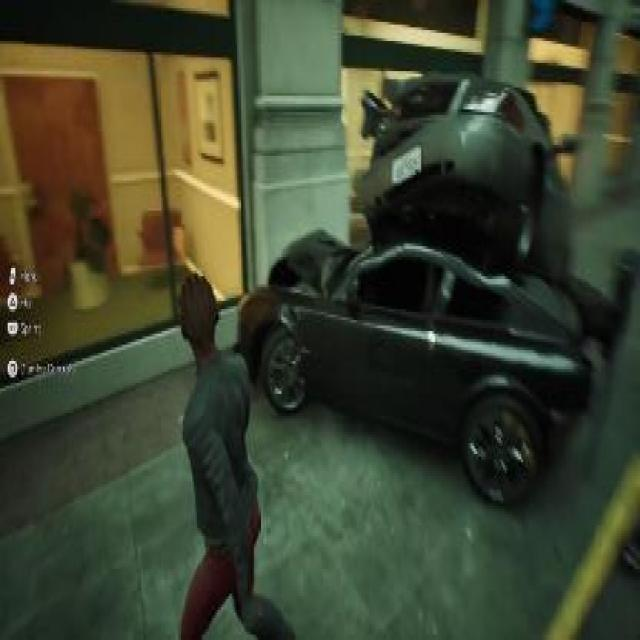accident: (229, 60, 602, 512)
